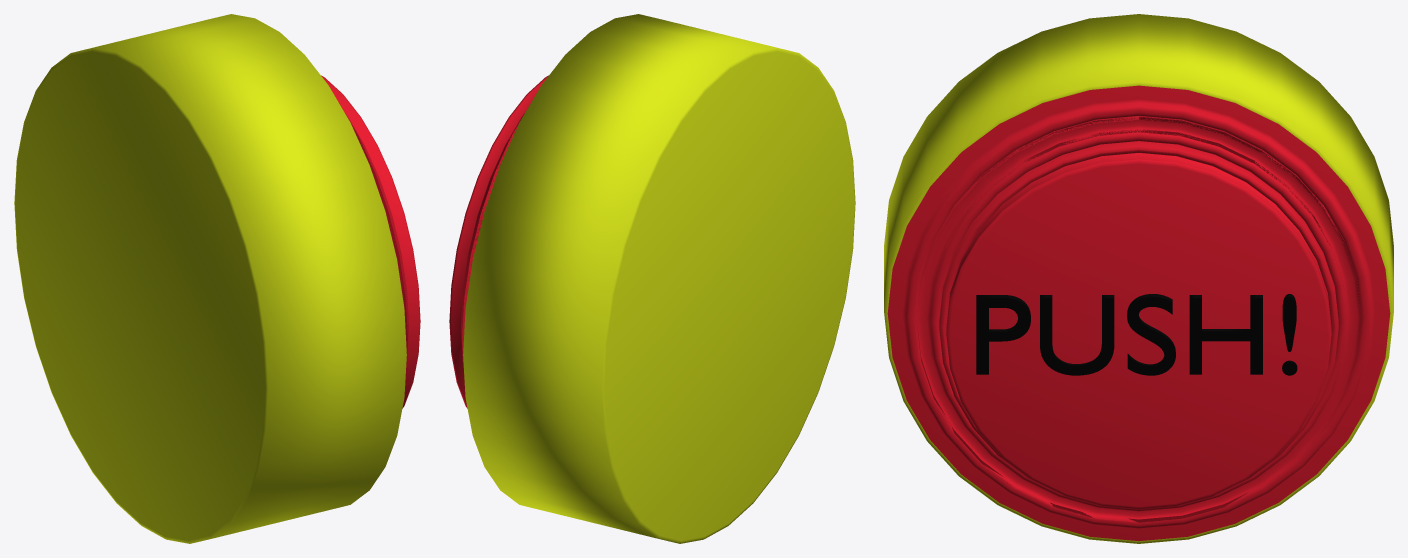
Rendered from botton.fbx.
The picture shows the model from 3 angles, left to right: view 1: azimuth 30°, elevation 25°; view 2: azimuth 150°, elevation 25°; view 3: azimuth 270°, elevation 25°; orthographic projection.
Visible parts, largest first — view 1: 円柱; view 2: 円柱; view 3: 円柱, テキスト.
Boxes of the visible parts, <box> form: 円柱: <box>14,14,420,543</box>; 円柱: <box>449,14,855,543</box>; 円柱: <box>884,14,1393,543</box>; テキスト: <box>976,294,1297,375</box>.
Bounding box in the file's own units: 194 × 446 × 446.
